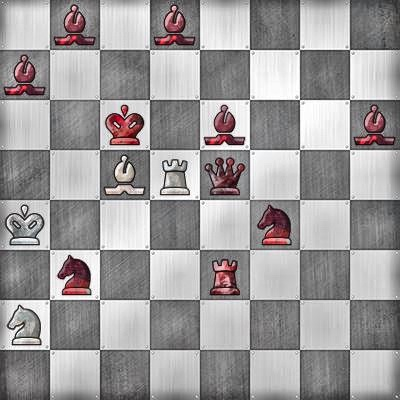black-bishop: (50, 0, 100, 50), (150, 0, 200, 50), (0, 50, 50, 100), (200, 100, 250, 150), (350, 100, 400, 150)
black-king: (100, 100, 150, 150)
black-knight: (250, 200, 300, 250), (50, 250, 100, 300)
black-queen: (200, 150, 250, 200)
black-rook: (200, 250, 250, 300)
white-bishop: (100, 150, 150, 200)
white-king: (0, 200, 50, 250)
white-knight: (0, 300, 50, 350)
white-rook: (150, 150, 200, 200)
